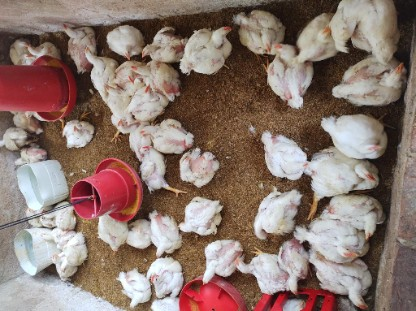Pollos: (197, 265, 271, 311), (236, 179, 286, 233), (16, 233, 63, 288), (72, 253, 124, 298), (131, 259, 180, 306), (158, 139, 195, 197), (257, 238, 306, 278), (25, 201, 68, 244), (54, 145, 104, 181), (250, 138, 286, 187), (74, 177, 113, 222), (15, 277, 72, 307), (13, 144, 55, 184), (127, 180, 163, 225), (157, 61, 201, 97), (119, 137, 164, 169), (3, 113, 44, 147), (55, 97, 97, 128), (222, 133, 253, 175), (250, 107, 287, 142), (34, 58, 74, 90), (261, 56, 291, 97), (241, 26, 275, 61), (80, 41, 114, 76), (224, 84, 265, 112), (186, 18, 208, 62), (61, 122, 93, 151), (160, 0, 183, 37), (201, 132, 226, 166), (245, 297, 305, 311), (140, 15, 165, 47), (168, 114, 195, 143), (241, 7, 275, 28), (0, 274, 12, 311), (182, 5, 200, 25), (83, 19, 107, 33), (65, 33, 81, 52), (225, 117, 243, 133), (209, 103, 225, 119), (44, 48, 60, 58)
